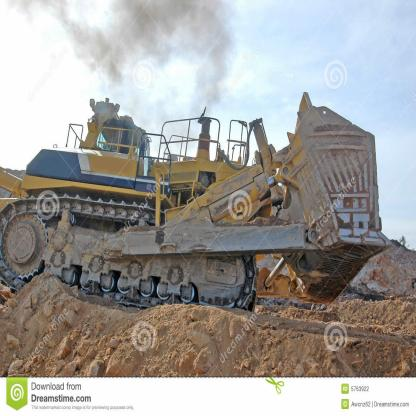bull_dozer/loader/grader: (14, 87, 394, 335)
